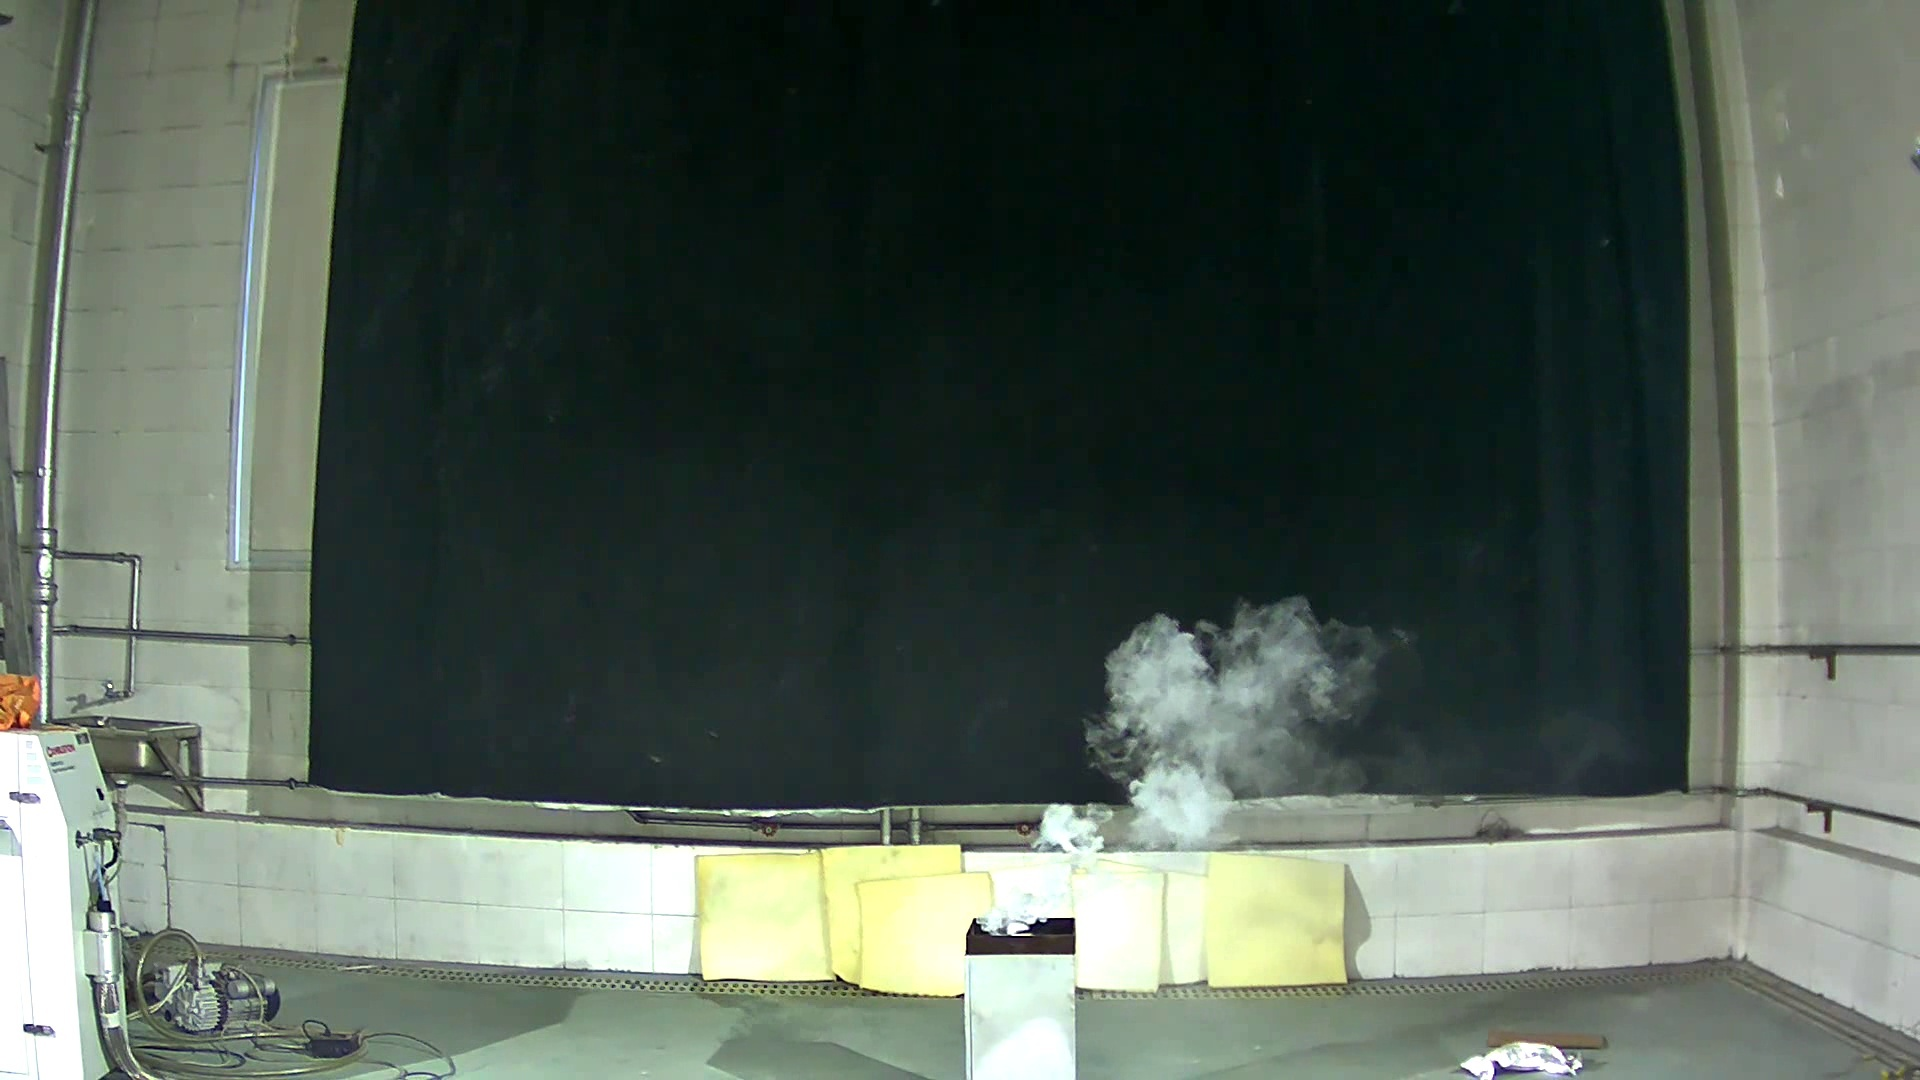smoke: (967, 563, 1406, 920)
